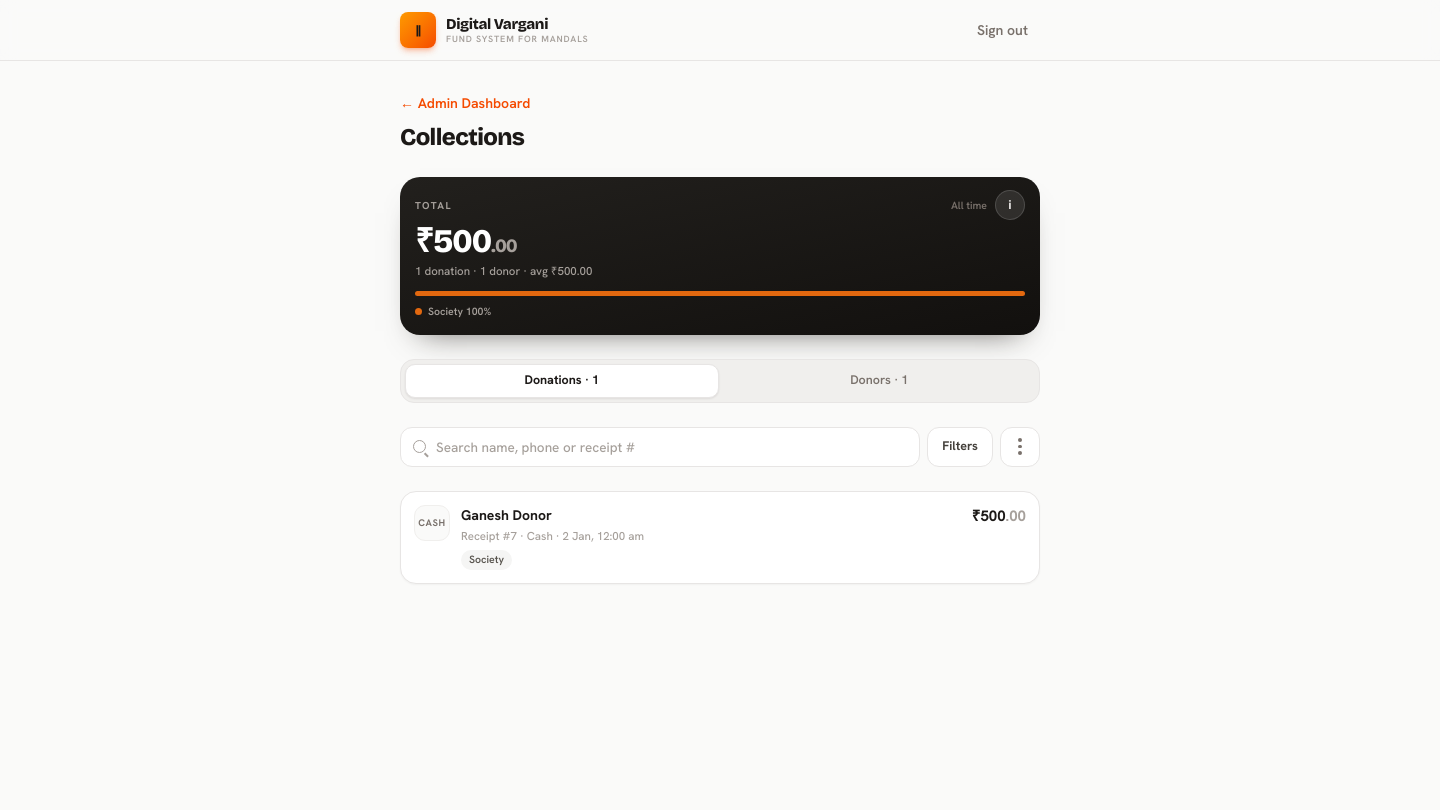
Scenario: CollectionsContent — the Collections & donors tab › hides the purges from a plain admin but keeps "clear all" in the cleanup sheet
Expected: the text "Ganesh Donor" is shown, [461,506,552,524]
Click the button named "Data cleanup" at {"x": 1020, "y": 447}, box [1000,427,1040,467]
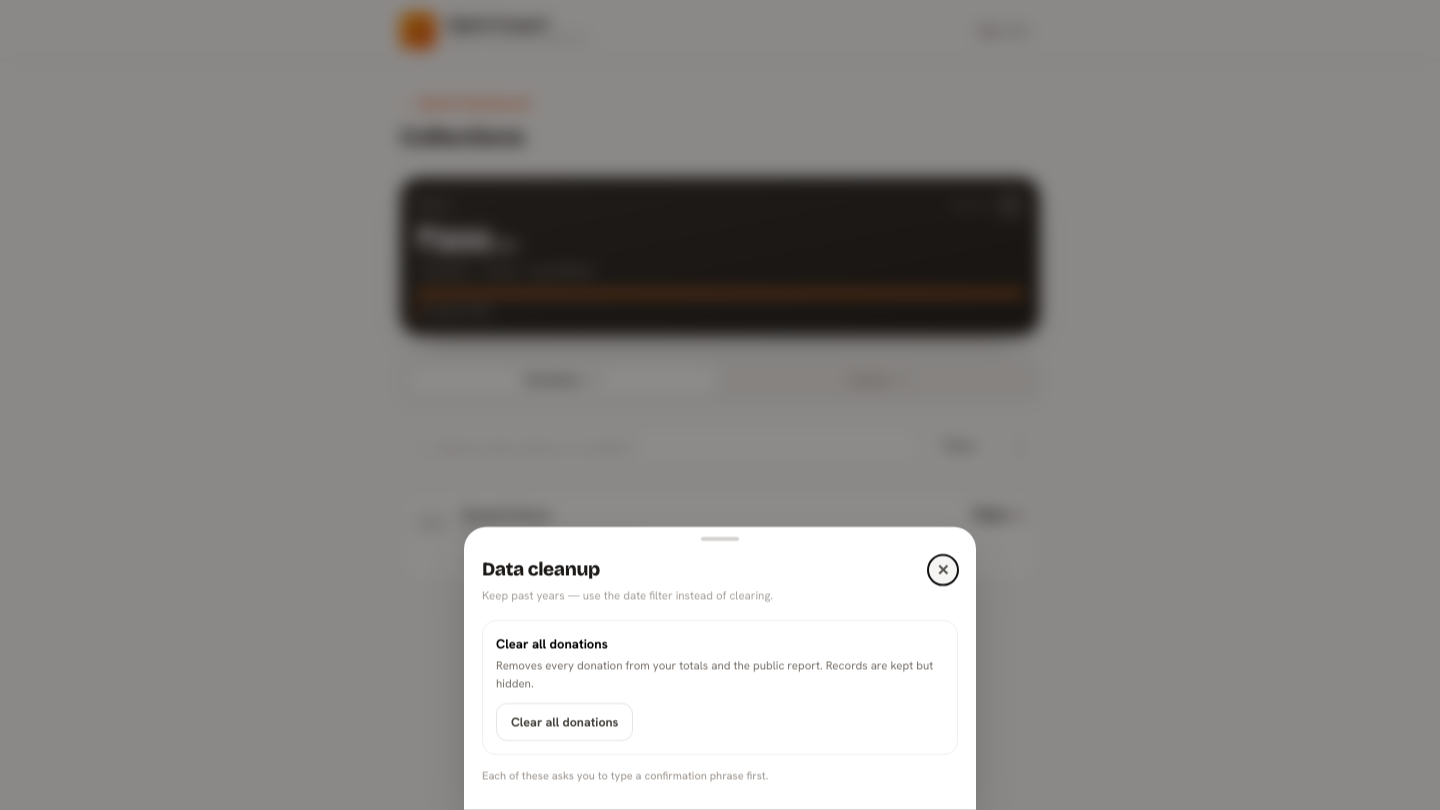
Expected: the button "Clear all donations" is shown, [496,704,634,742]
